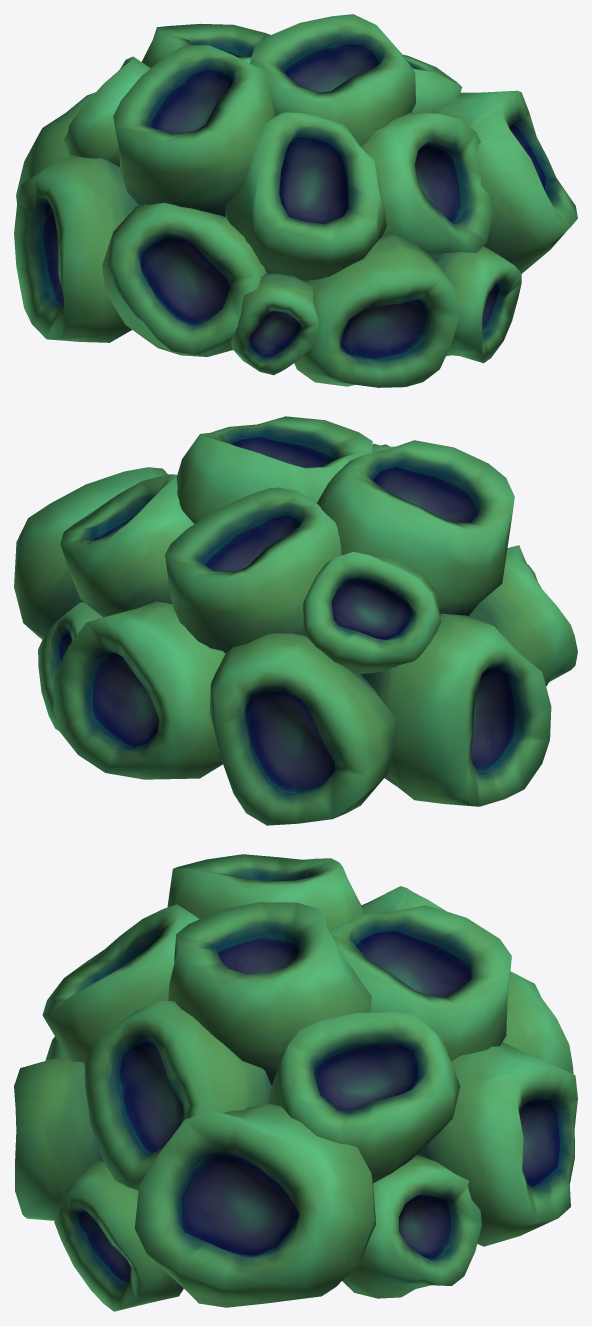
File: Bouncy Coral.fbx
3 renders of one model, top to bottom at view 1: azimuth 30°, elevation 25°; view 2: azimuth 150°, elevation 25°; view 3: azimuth 270°, elevation 25°, orthographic. The views are drawn at different scales.
Parts seen in each view (by area): view 1: bouncy coral.003, bouncy coral.001, bouncy coral.006, bouncy coral.008, bouncy coral.012, bouncy coral, bouncy coral.002, bouncy coral.009, bouncy coral.015, bouncy coral.013, bouncy coral.007, bouncy coral.004 (+2 smaller); view 2: bouncy coral.011, bouncy coral.012, bouncy coral.010, bouncy coral.003, bouncy coral.004, bouncy coral.007, bouncy coral, bouncy coral.005, bouncy coral.009, bouncy coral.006, bouncy coral.014; view 3: bouncy coral.009, bouncy coral, bouncy coral.005, bouncy coral.010, bouncy coral.002, bouncy coral.004, bouncy coral.014, bouncy coral.001, bouncy coral.008, bouncy coral.013, bouncy coral.003, bouncy coral.011 (+1 smaller).
Boxes of the visible parts, x1=… form: bouncy coral.003: x1=113, y1=45, x2=275, y2=216; bouncy coral.001: x1=225, y1=112, x2=386, y2=280; bouncy coral.006: x1=102, y1=202, x2=267, y2=356; bouncy coral.008: x1=294, y1=235, x2=459, y2=387; bouncy coral.012: x1=14, y1=155, x2=138, y2=342; bouncy coral: x1=250, y1=14, x2=415, y2=146; bouncy coral.002: x1=360, y1=113, x2=493, y2=258; bouncy coral.009: x1=433, y1=90, x2=577, y2=273; bouncy coral.015: x1=231, y1=273, x2=318, y2=375; bouncy coral.013: x1=433, y1=246, x2=521, y2=363; bouncy coral.007: x1=64, y1=56, x2=150, y2=166; bouncy coral.004: x1=142, y1=23, x2=270, y2=67; bouncy coral.011: x1=210, y1=633, x2=395, y2=825; bouncy coral.012: x1=361, y1=613, x2=551, y2=806; bouncy coral.010: x1=53, y1=601, x2=224, y2=779; bouncy coral.003: x1=317, y1=440, x2=514, y2=615; bouncy coral.004: x1=165, y1=487, x2=341, y2=653; bouncy coral.007: x1=302, y1=551, x2=440, y2=674; bouncy coral: x1=176, y1=416, x2=372, y2=523; bouncy coral.005: x1=60, y1=474, x2=193, y2=617; bouncy coral.009: x1=14, y1=467, x2=167, y2=639; bouncy coral.006: x1=469, y1=545, x2=577, y2=686; bouncy coral.014: x1=38, y1=602, x2=102, y2=730; bouncy coral.009: x1=134, y1=1104, x2=375, y2=1307; bouncy coral: x1=168, y1=902, x2=371, y2=1084; bouncy coral.005: x1=268, y1=1012, x2=460, y2=1183; bouncy coral.010: x1=417, y1=1042, x2=577, y2=1246; bouncy coral.002: x1=84, y1=1001, x2=271, y2=1190; bouncy coral.004: x1=329, y1=905, x2=511, y2=1060; bouncy coral.014: x1=342, y1=1154, x2=481, y2=1298; bouncy coral.001: x1=42, y1=904, x2=199, y2=1062; bouncy coral.008: x1=14, y1=1057, x2=102, y2=1220; bouncy coral.013: x1=54, y1=1160, x2=183, y2=1311; bouncy coral.003: x1=167, y1=854, x2=365, y2=931; bouncy coral.011: x1=503, y1=971, x2=573, y2=1074.
Bounding box in the file's own units: 428 × 243 × 374.
1 material, 1 textured.
